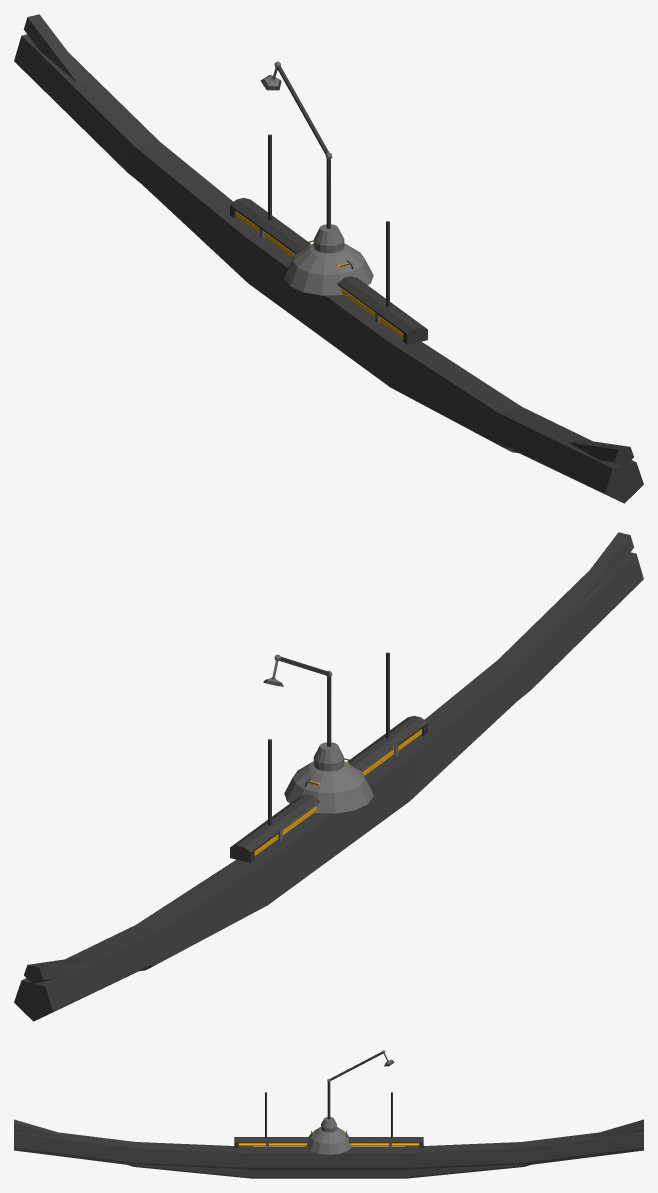
File: Lamps.fbx
3 renders of one model, top to bottom at view 1: azimuth 30°, elevation 25°; view 2: azimuth 150°, elevation 25°; view 3: azimuth 270°, elevation 25°, orthographic. The views are drawn at different scales.
Parts seen in each view (by area): view 1: Cable_05, Cable_04, Lamp_03, Lamp_01, Lamp_05; view 2: Cable_05, Cable_04, Lamp_03, Lamp_01, Lamp_05; view 3: Cable_05, Cable_04, Lamp_03, Lamp_01, Lamp_05.
Boxes of the visible parts, x1,y1,x2,y2 form: Cable_05: [14, 34, 643, 503]; Cable_04: [23, 14, 633, 465]; Lamp_03: [230, 134, 427, 344]; Lamp_01: [284, 224, 373, 295]; Lamp_05: [260, 61, 332, 228]; Cable_05: [14, 552, 643, 1021]; Cable_04: [24, 532, 634, 984]; Lamp_03: [230, 652, 427, 862]; Lamp_01: [284, 742, 373, 813]; Lamp_05: [263, 654, 332, 746]; Cable_05: [14, 1130, 643, 1169]; Cable_04: [14, 1119, 643, 1178]; Lamp_03: [234, 1092, 423, 1147]; Lamp_01: [305, 1117, 352, 1154]; Lamp_05: [327, 1050, 394, 1119].
Size of the model in its own units: 38.02 by 113 by 500.
Materials: 1 (1 with a texture image).
